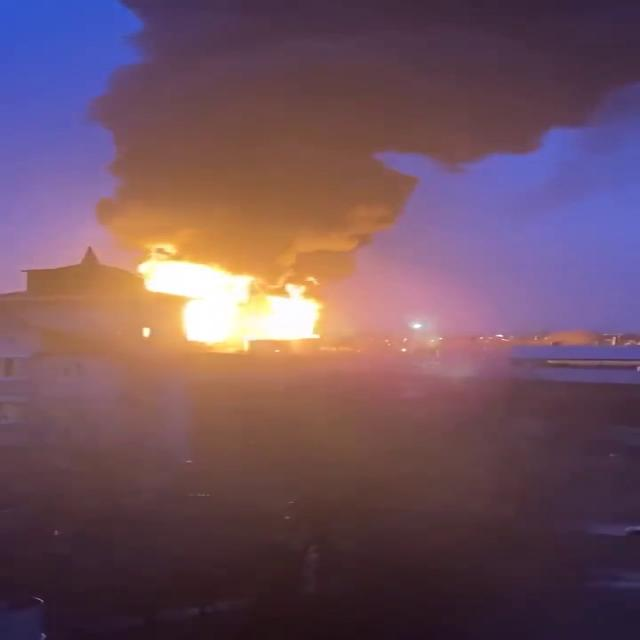Fire: (140, 262, 326, 355)
Smoke: (101, 0, 640, 266)
